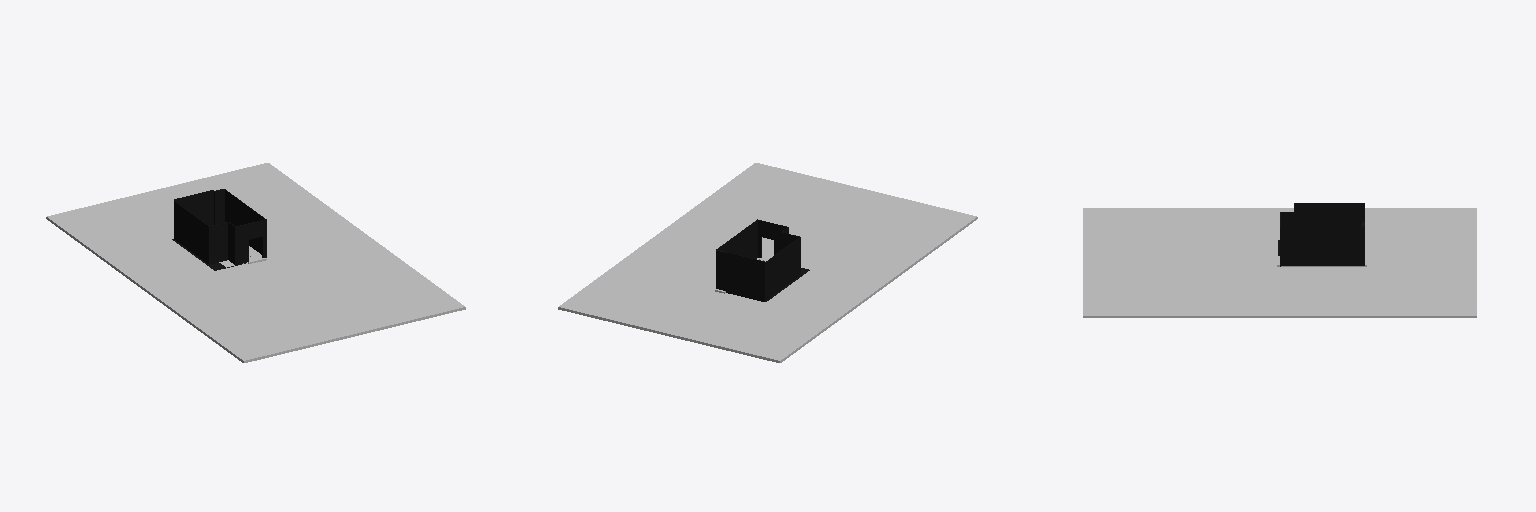
The model's file is espace noir.obj.
The picture shows the model from 3 angles: view 1: azimuth 30°, elevation 25°; view 2: azimuth 150°, elevation 25°; view 3: azimuth 270°, elevation 25°; orthographic projection.
Visible parts, largest first — view 1: Cube.14, Cube, Cube.1, Cube.3, Cube.4; view 2: Cube.14, Cube.3, Cube, Cube.1; view 3: Cube.14, Cube.1, Cube.
Boxes of the visible parts, <box> form: Cube.14: <box>46,163,465,362</box>; Cube: <box>174,201,208,263</box>; Cube.1: <box>225,189,266,254</box>; Cube.3: <box>174,190,213,225</box>; Cube.4: <box>209,222,227,264</box>; Cube.14: <box>558,163,977,362</box>; Cube.3: <box>725,252,764,301</box>; Cube: <box>765,237,800,301</box>; Cube.1: <box>716,219,757,258</box>; Cube.14: <box>1083,208,1476,317</box>; Cube.1: <box>1280,227,1362,265</box>; Cube: <box>1295,203,1364,226</box>.
Bounding box in the file's own units: 150891 × 45481 × 232400.